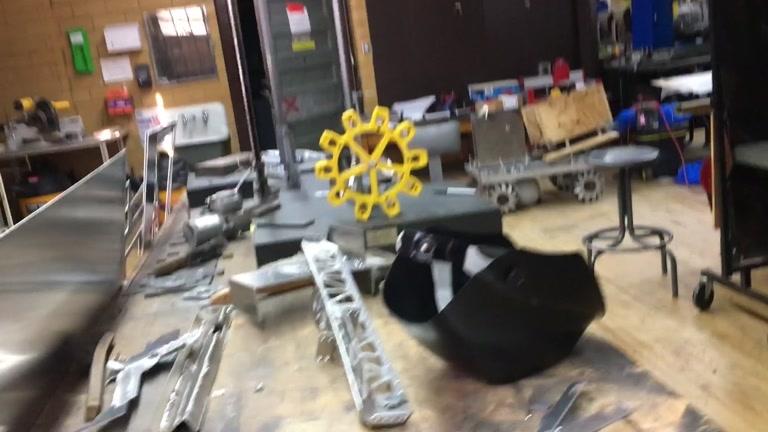gear: (315, 104, 429, 223)
